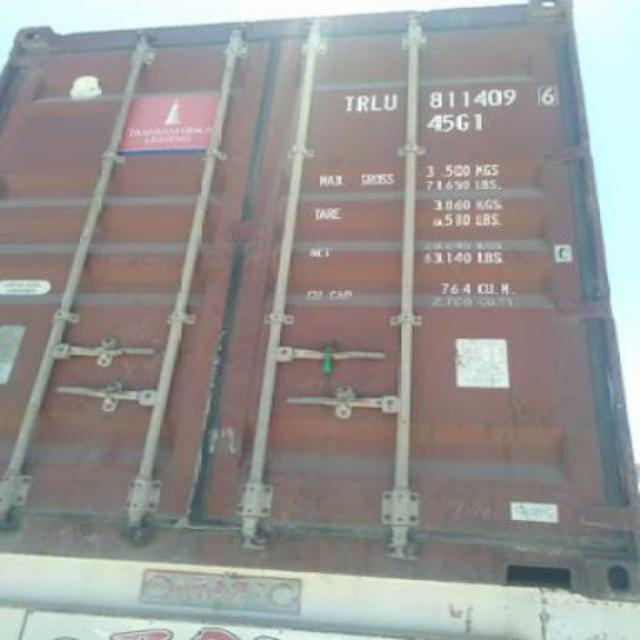0: (488, 89, 502, 107)
1: (446, 90, 458, 108), (460, 90, 470, 110)
4: (472, 85, 488, 106)
6: (536, 85, 554, 105)
8: (428, 88, 444, 112)
9: (502, 89, 516, 105)
L: (371, 94, 384, 110)
R: (356, 94, 369, 112)
T: (340, 92, 356, 112)
U: (382, 93, 398, 111)
